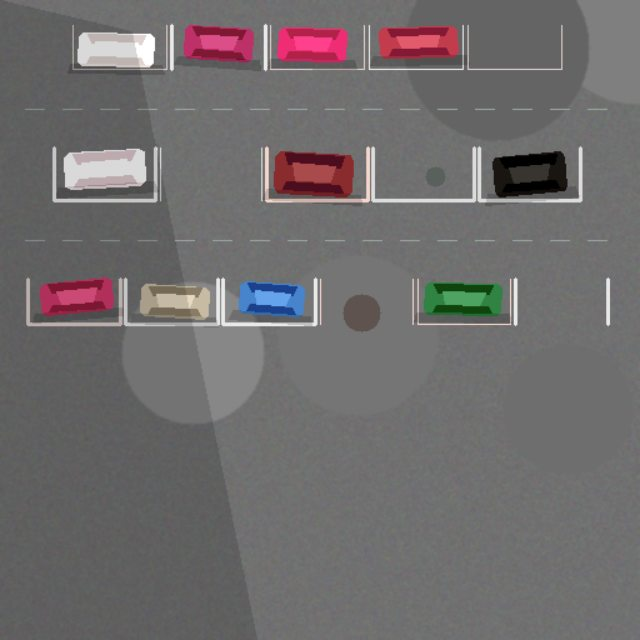space-empty: (160, 147, 261, 200), (373, 147, 474, 200), (320, 279, 413, 324), (515, 279, 607, 324), (468, 25, 561, 69)
space-occupied: (54, 147, 155, 200), (266, 147, 367, 200), (479, 147, 580, 200), (27, 279, 120, 324), (417, 279, 510, 324), (125, 279, 217, 324), (223, 279, 315, 324), (72, 25, 166, 69), (171, 25, 265, 69), (270, 25, 364, 69), (369, 25, 462, 69)
